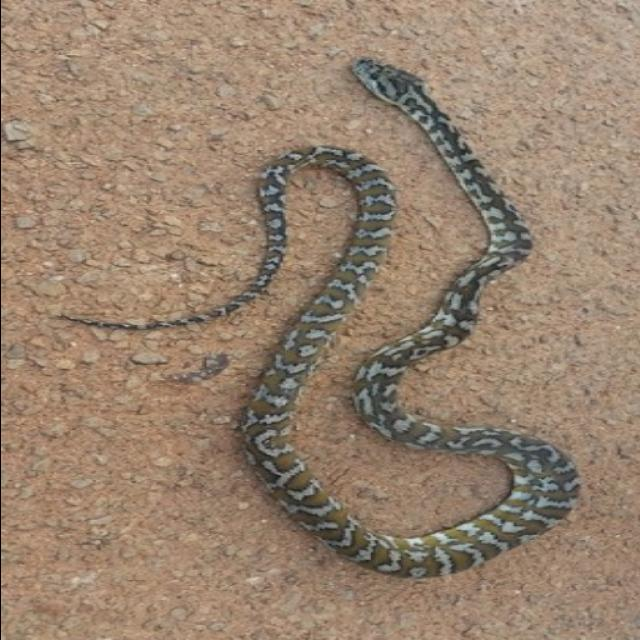snake: (146, 56, 580, 586)
